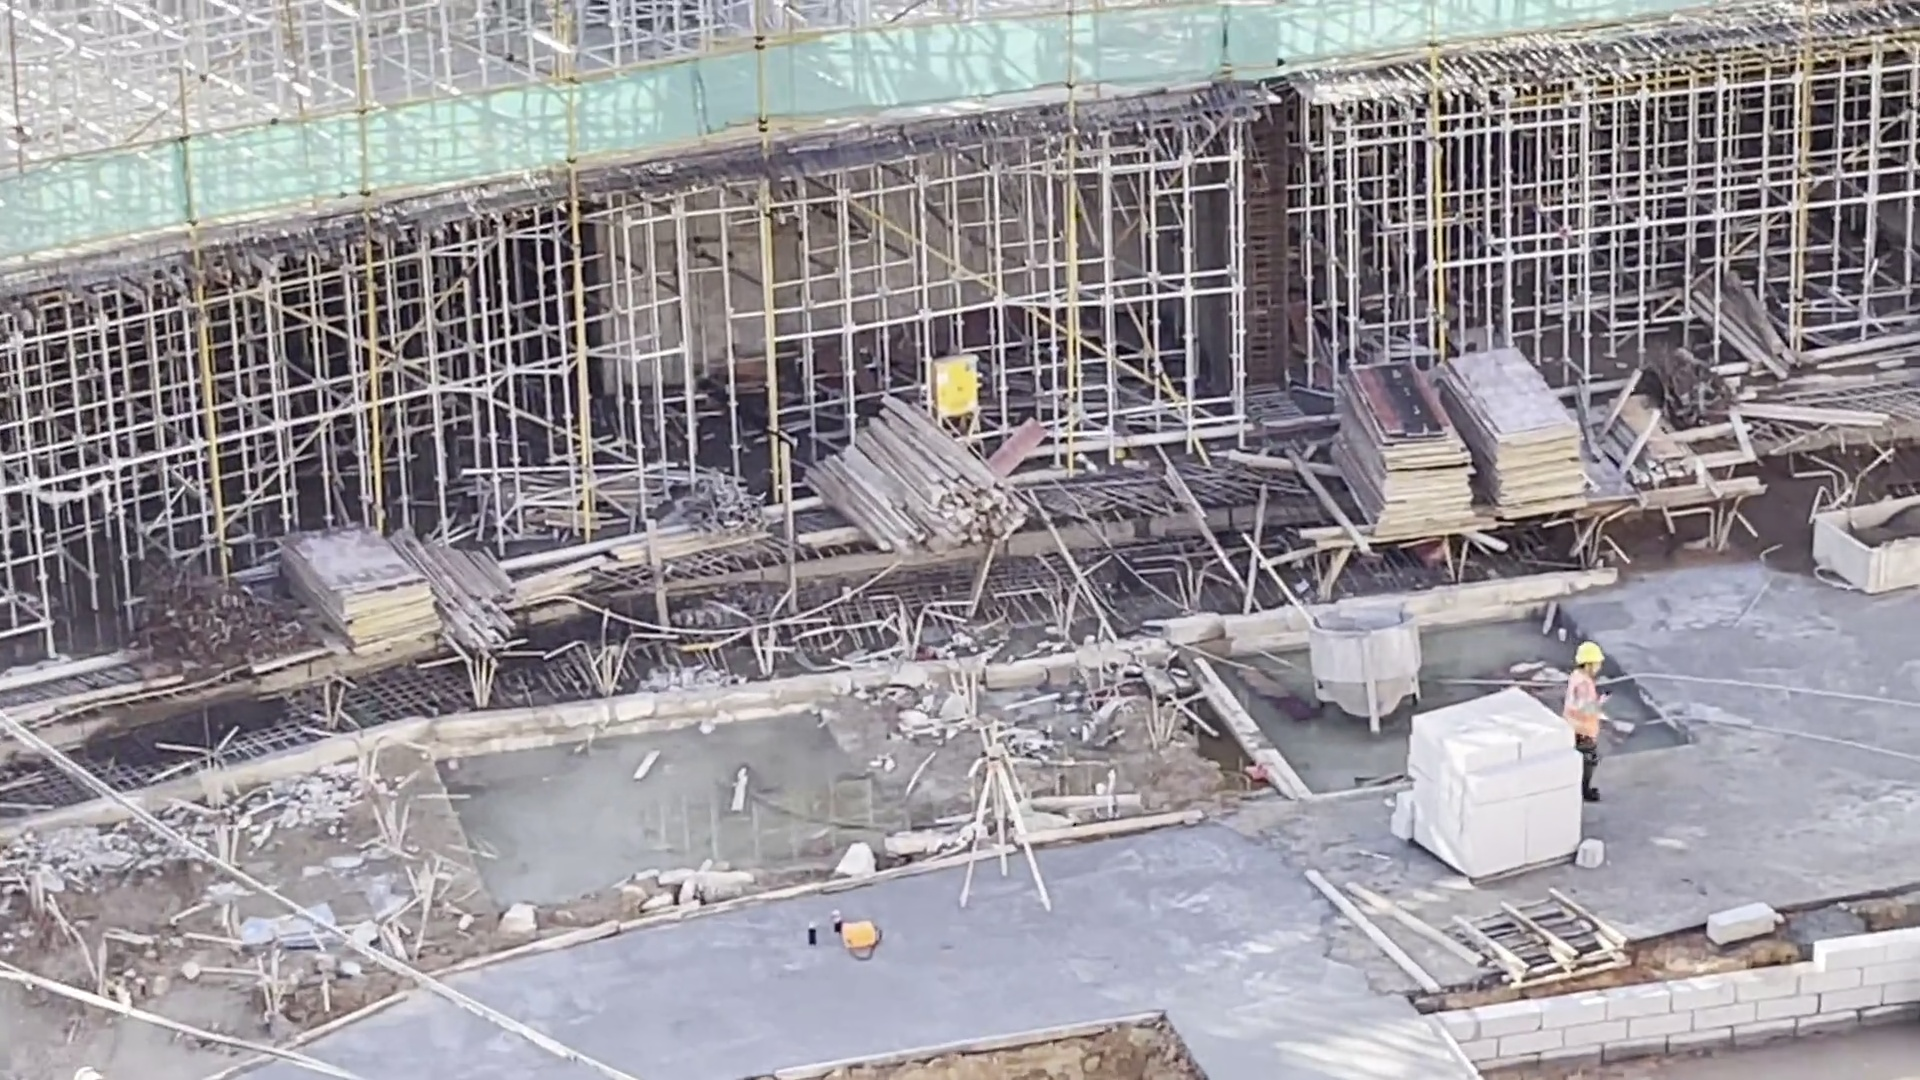board: (1319, 361, 1477, 542), (1441, 339, 1596, 522), (285, 516, 443, 663)
brick: (1401, 685, 1584, 879)
ebox: (928, 342, 984, 422)
helmet: (1571, 640, 1607, 665)
hopper: (1302, 598, 1426, 741), (1807, 486, 1920, 596)
person: (1563, 635, 1612, 802)
vest: (1565, 672, 1598, 741)
wood: (800, 390, 1034, 554), (437, 542, 525, 656)
